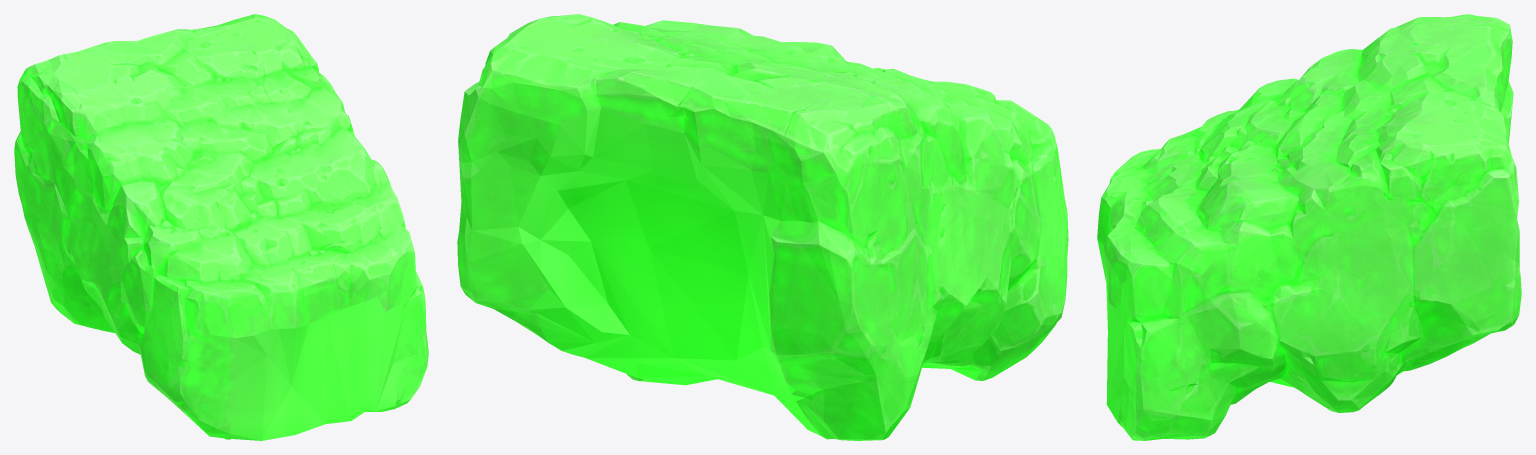
Rendered from Stair2.fbx.
3 views of the same model, side by side, from view 1: azimuth 30°, elevation 25°; view 2: azimuth 150°, elevation 25°; view 3: azimuth 270°, elevation 25° (orthographic). The views are drawn at different scales.
Visible parts, largest first — view 1: Dn_HL_Stairs_Rock_B.mo; view 2: Dn_HL_Stairs_Rock_B.mo; view 3: Dn_HL_Stairs_Rock_B.mo.
Boxes of the visible parts, bbox=[...] form: Dn_HL_Stairs_Rock_B.mo: bbox=[14, 14, 428, 440]; Dn_HL_Stairs_Rock_B.mo: bbox=[457, 14, 1068, 440]; Dn_HL_Stairs_Rock_B.mo: bbox=[1097, 14, 1521, 440].
Bounding box in the file's own units: 850 × 849 × 1023.
